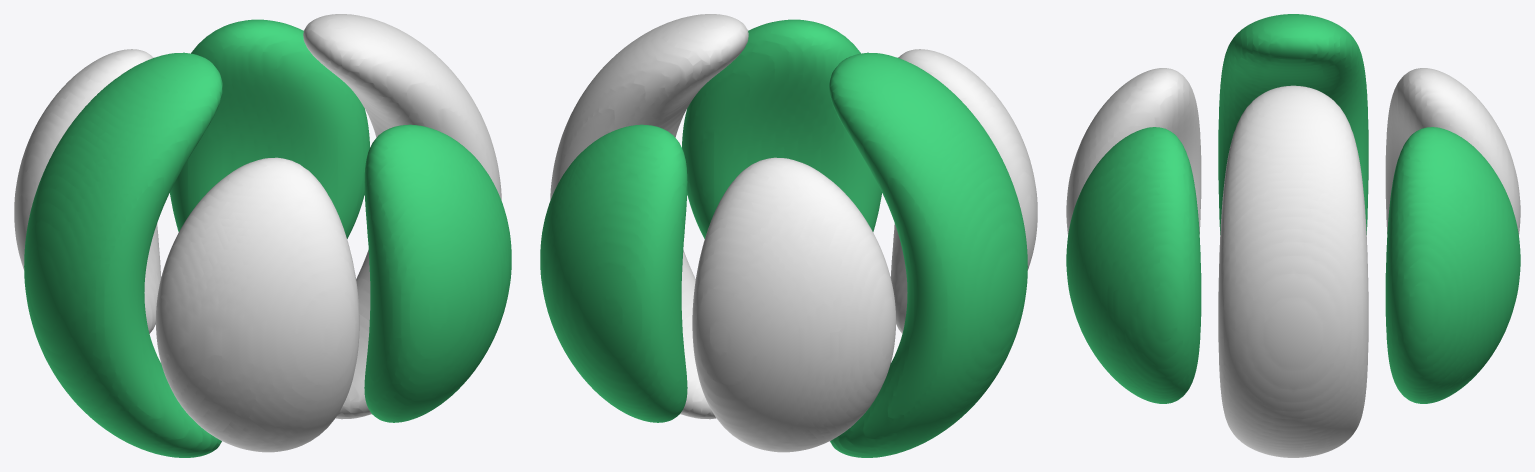
File: f_fxz2.glb
3 renders of one model, left to right at view 1: azimuth 30°, elevation 25°; view 2: azimuth 150°, elevation 25°; view 3: azimuth 270°, elevation 25°, orthographic. The views are drawn at different scales.
Parts seen in each view (by area): view 1: f_fxz2; view 2: f_fxz2; view 3: f_fxz2.
Part boxes in pixels (<box>): f_fxz2: <box>14,14,511,457</box>; f_fxz2: <box>540,14,1037,457</box>; f_fxz2: <box>1066,14,1520,457</box>.
Size of the model in its own units: 1.96 by 1.64 by 1.88.
